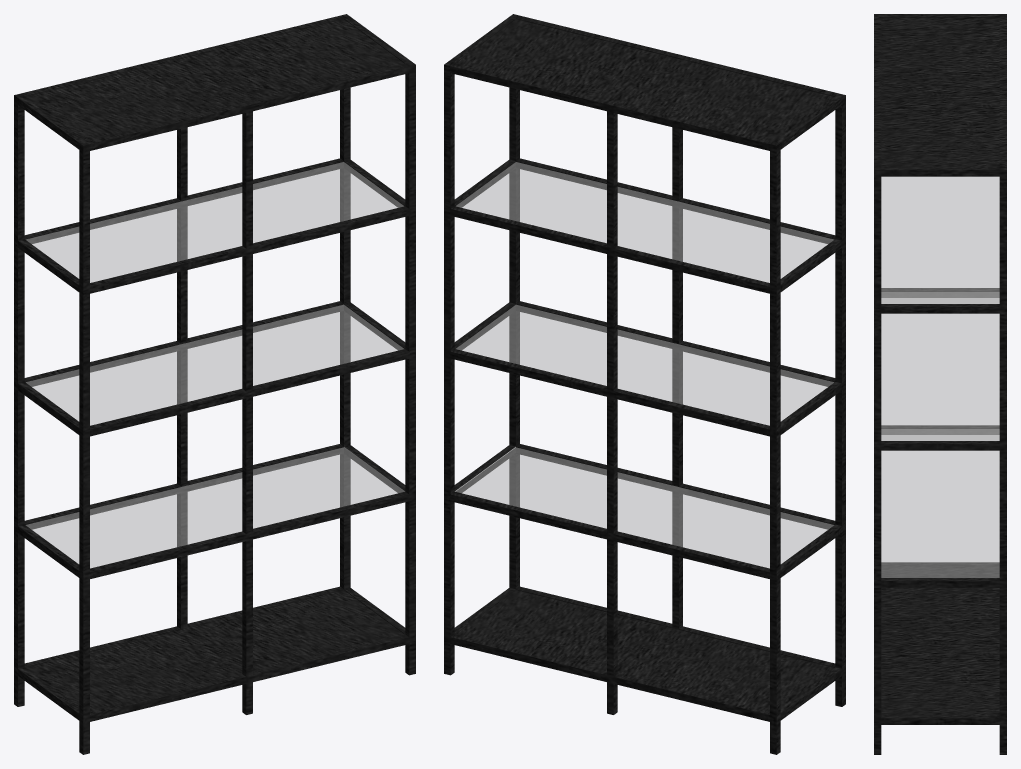
Rendered from shelving_unit.glb.
3 renders of one model, left to right at view 1: azimuth 30°, elevation 25°; view 2: azimuth 150°, elevation 25°; view 3: azimuth 270°, elevation 25°, orthographic. The views are drawn at different scales.
Visible parts, largest first — view 1: Geom3D (×2); view 2: Geom3D (×2); view 3: Geom3D (×2).
Boxes of the visible parts, bbox=[...] form: Geom3D (×2): bbox=[14, 14, 415, 754]; Geom3D (×2): bbox=[444, 14, 845, 754]; Geom3D (×2): bbox=[874, 14, 1006, 754].
Bounding box in the file's own units: 1 × 1.75 × 0.36.
Materials: 3 (1 with a texture image).
